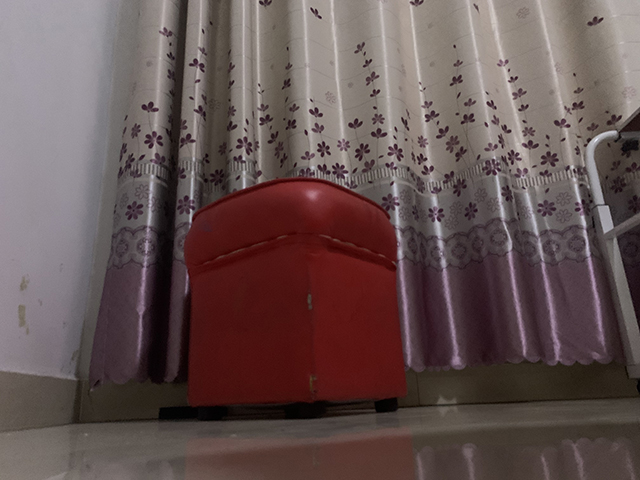curtain: (86, 1, 640, 398)
stool: (182, 176, 409, 416)
